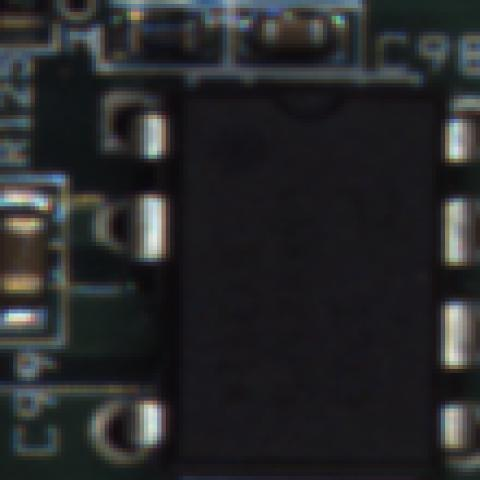IC: (120, 75, 480, 468)
